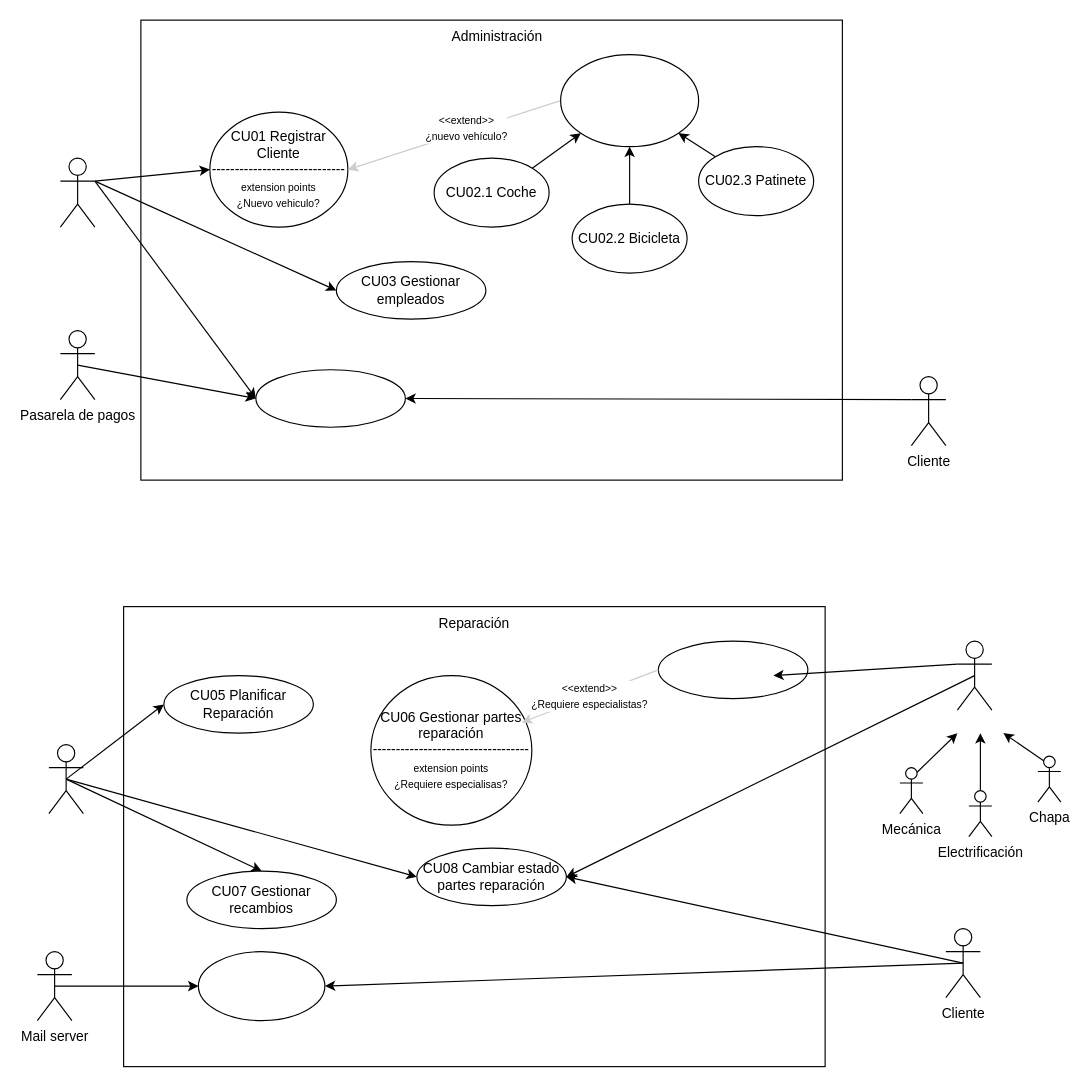
Some shapes in this 1089 by 1087 pixel diagram are drawn without their labels. Each missing label, with the box of its shape:
Administrativo: (59, 157, 95, 227)
CU02 Registrar vehículo: (559, 53, 699, 147)
CU04 Generar factura a reparación: (255, 369, 405, 427)
CU09 Asignar empleados especialistas: (657, 640, 808, 699)
CU10 Notificar vehículo reparado: (197, 950, 325, 1021)
Encargado: (48, 743, 83, 814)
Especialistas: (956, 640, 992, 710)
